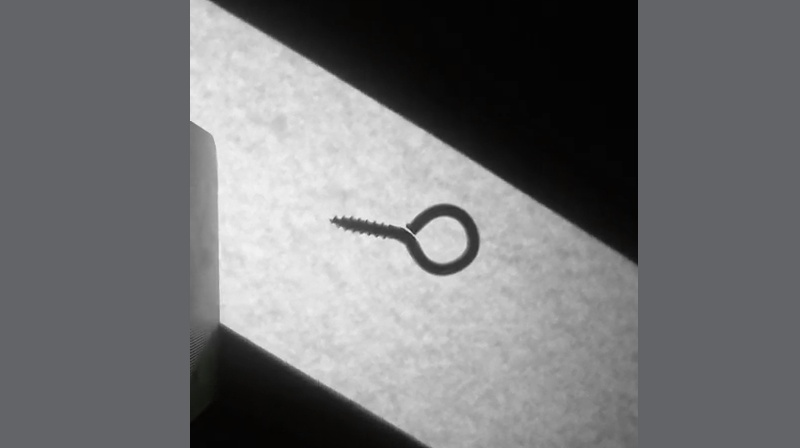O001: (326, 197, 481, 279)
